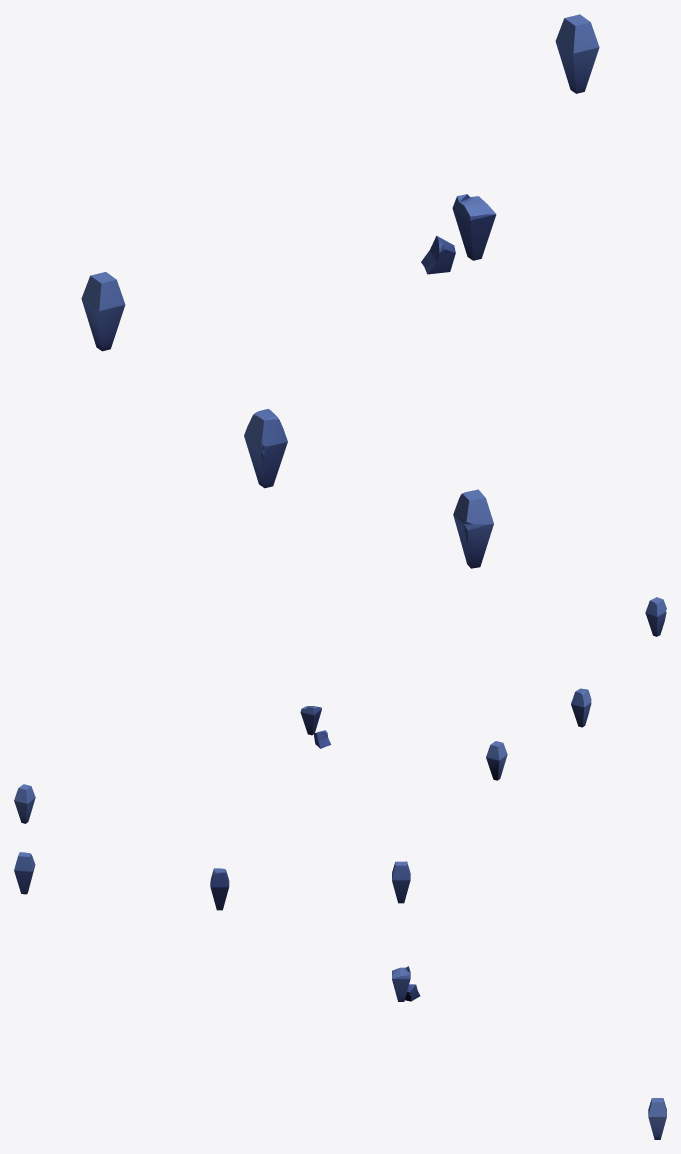
File: Crystal_01.FBX
The picture shows the model from 3 angles, top to bottom: view 1: azimuth 30°, elevation 25°; view 2: azimuth 150°, elevation 25°; view 3: azimuth 270°, elevation 25°; orthographic projection. The views are drawn at different scales.
Visible parts, largest first — view 1: Crystal_01; view 2: Crystal_01; view 3: Crystal_01.
Part boxes in pixels (left/top/right/bottom): Crystal_01: left=81, top=14, right=599, bottom=568; Crystal_01: left=14, top=597, right=666, bottom=823; Crystal_01: left=14, top=852, right=666, bottom=1139.
Size of the model in its own units: 26.86 by 6.49 by 37.63.
